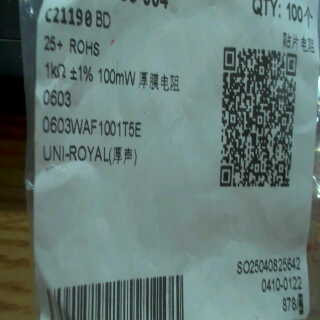1kR: (40, 57, 69, 84)
